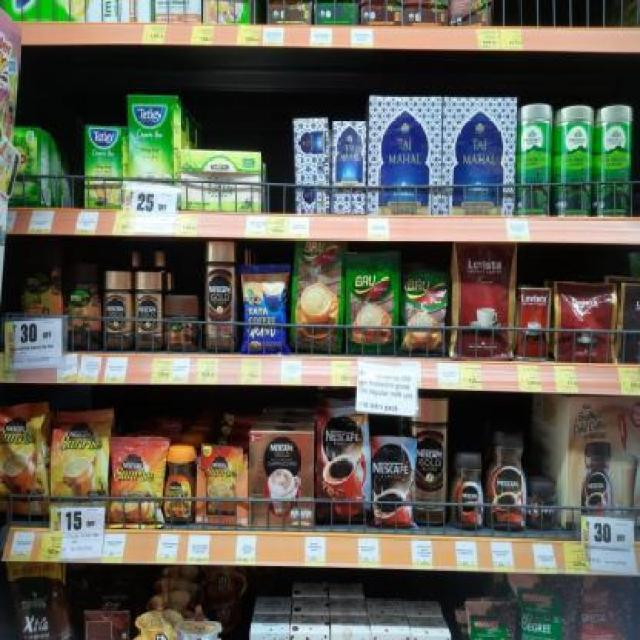Coffee: (51, 415, 108, 516), (319, 416, 372, 524), (0, 405, 48, 520), (111, 438, 164, 522), (489, 429, 529, 534), (415, 400, 446, 524), (372, 439, 414, 528), (205, 240, 235, 351), (164, 448, 197, 524), (454, 455, 487, 530), (106, 273, 132, 349), (135, 273, 160, 349), (529, 481, 554, 526)
